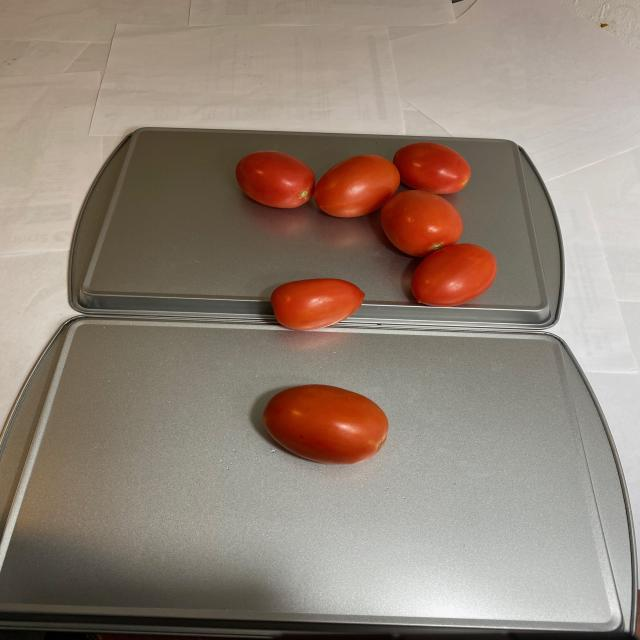tomato: (231, 141, 501, 331), (262, 381, 394, 467)
